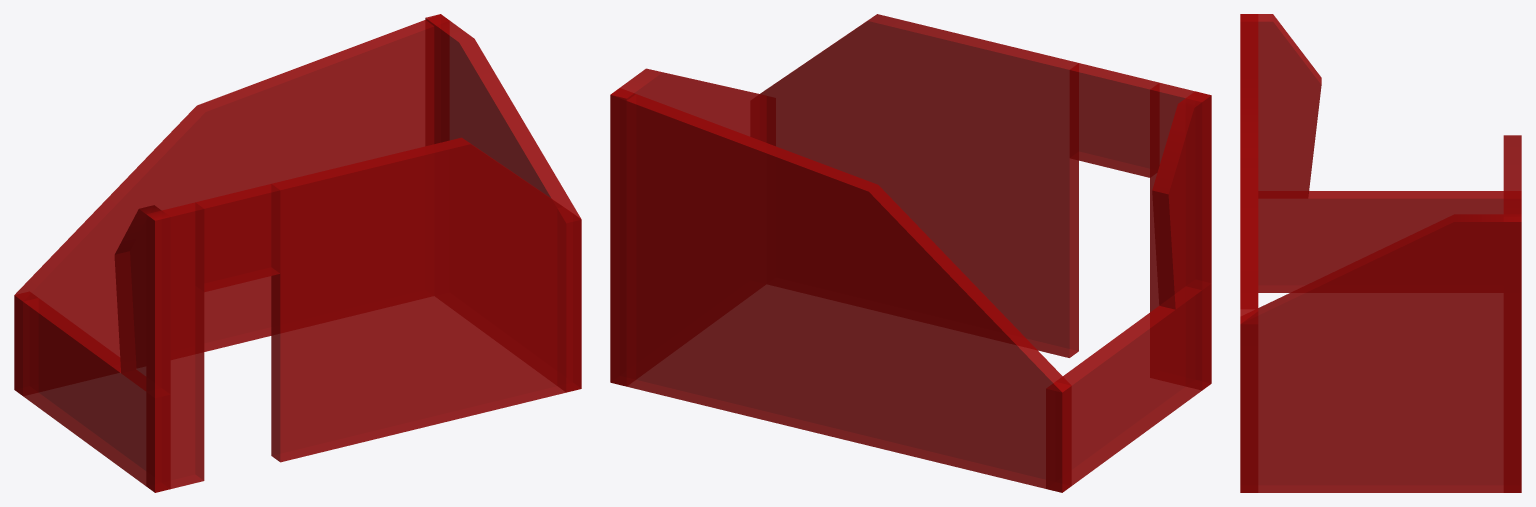
File: SM_Bld_Ruins_03_Collision.fbx
3 renders of one model, left to right at view 1: azimuth 30°, elevation 25°; view 2: azimuth 150°, elevation 25°; view 3: azimuth 270°, elevation 25°, orthographic. The views are drawn at different scales.
Visible parts, largest first — view 1: SM_Bld_Ruins_03_Collision; view 2: SM_Bld_Ruins_03_Collision; view 3: SM_Bld_Ruins_03_Collision.
Boxes of the visible parts, <box> form: SM_Bld_Ruins_03_Collision: <box>14,14,581,492</box>; SM_Bld_Ruins_03_Collision: <box>610,14,1211,492</box>; SM_Bld_Ruins_03_Collision: <box>1240,14,1521,492</box>.
Bounding box in the file's own units: 689 × 420 × 395.
